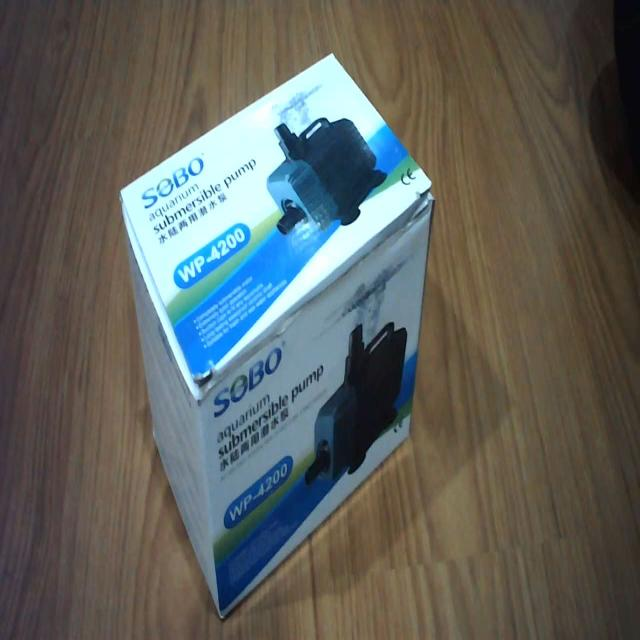SOBO_WP_4200: (117, 44, 439, 610)
